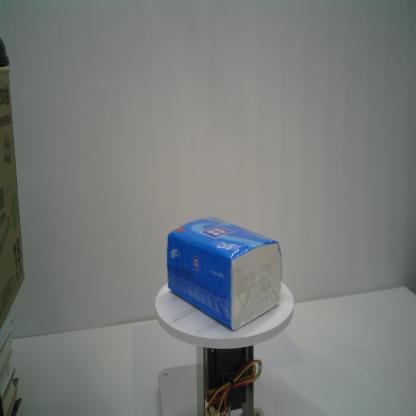Tissue: (166, 215, 284, 332)
